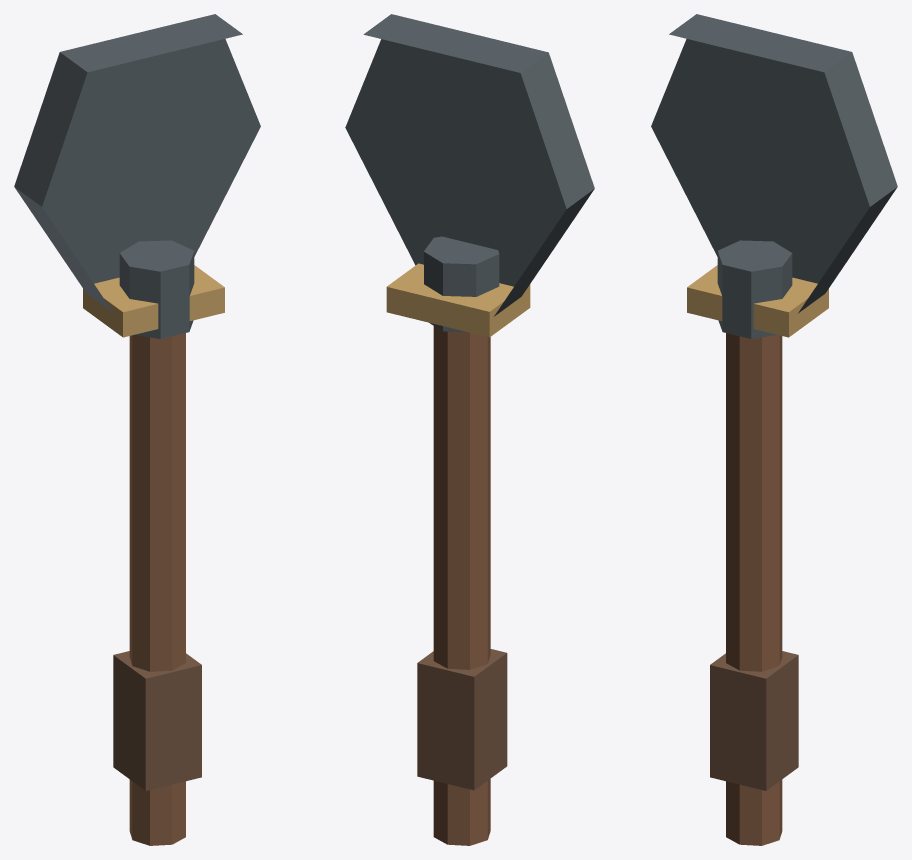
The model's file is war-room-shovel.glb.
The picture shows the model from 3 angles, left to right: view 1: azimuth 30°, elevation 25°; view 2: azimuth 150°, elevation 25°; view 3: azimuth 330°, elevation 25°; orthographic projection.
Visible parts, largest first — view 1: ReceiverGeometry; view 2: ReceiverGeometry; view 3: ReceiverGeometry.
Part boxes in pixels (box(x1,y1,x2,y2)): ReceiverGeometry: box(14, 14, 260, 845); ReceiverGeometry: box(345, 14, 594, 845); ReceiverGeometry: box(651, 14, 897, 845).
Size of the model in its own units: 0.46 by 1.4 by 0.1329.
